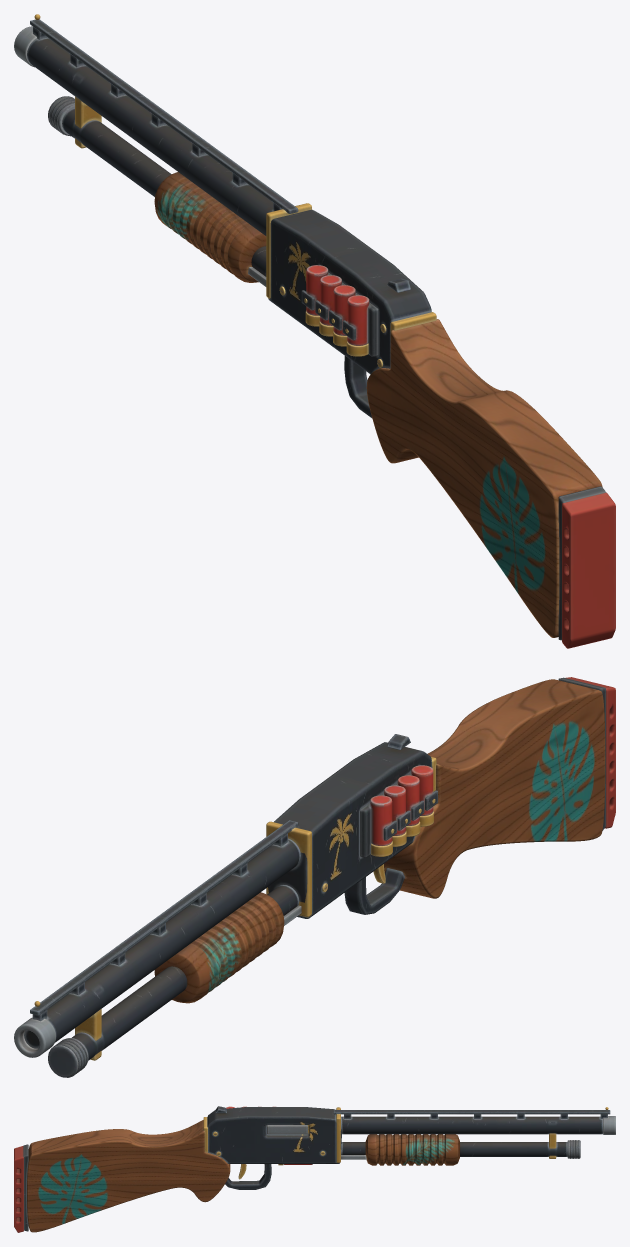
File: shotgun.glb
The picture shows the model from 3 angles, top to bottom: view 1: azimuth 30°, elevation 25°; view 2: azimuth 150°, elevation 25°; view 3: azimuth 270°, elevation 25°; orthographic projection. The views are drawn at different scales.
Visible parts, largest first — view 1: shotgun_body, shotgun_pump_mesh; view 2: shotgun_body, shotgun_pump_mesh; view 3: shotgun_body, shotgun_pump_mesh.
Part boxes in pixels (<box>): shotgun_body: <box>14,14,615,648</box>; shotgun_pump_mesh: <box>154,172,266,286</box>; shotgun_body: <box>14,677,615,1077</box>; shotgun_pump_mesh: <box>154,892,301,1003</box>; shotgun_body: <box>14,1106,615,1232</box>; shotgun_pump_mesh: <box>341,1134,459,1165</box>.
Size of the model in its own units: 0.077 by 0.2352 by 1.07.
1 material, 1 textured.
